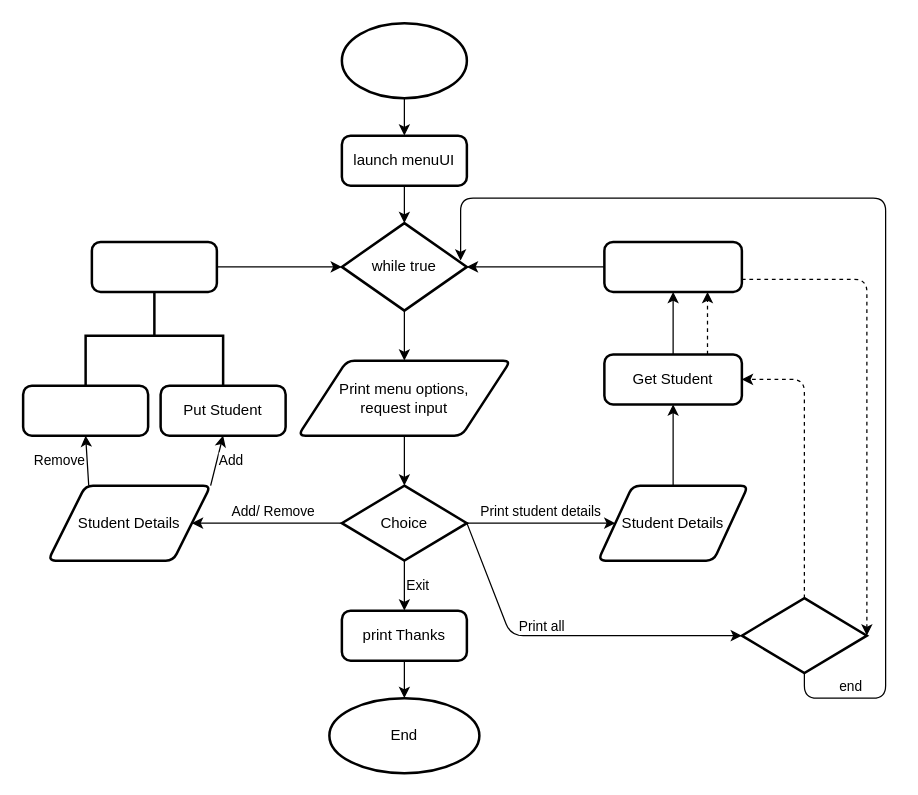
Image size: 918x795. Some labels were removed from this diagram. Here are the shapes that lost their labels. From the top down, the centre of each, then its label:
point 404,60: Start
point 154,266: Print Success
point 672,266: Print
point 85,410: Remove Student
point 804,635: foreach
